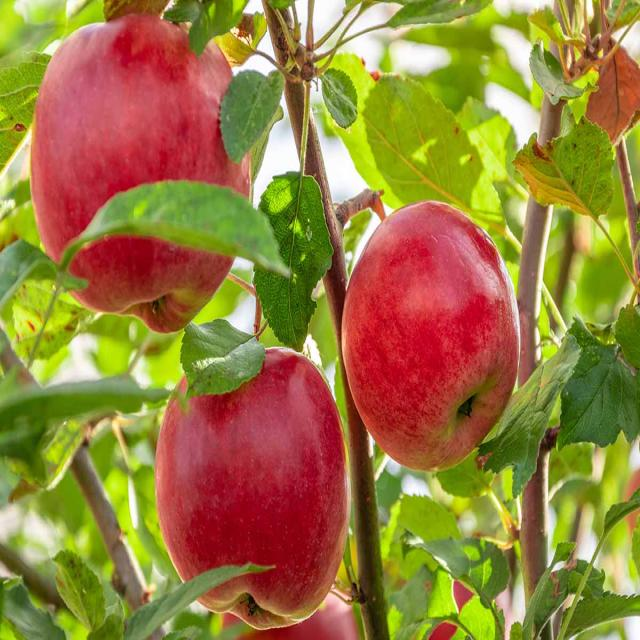Apple: (30, 9, 254, 330), (150, 340, 352, 630), (337, 202, 521, 470)
